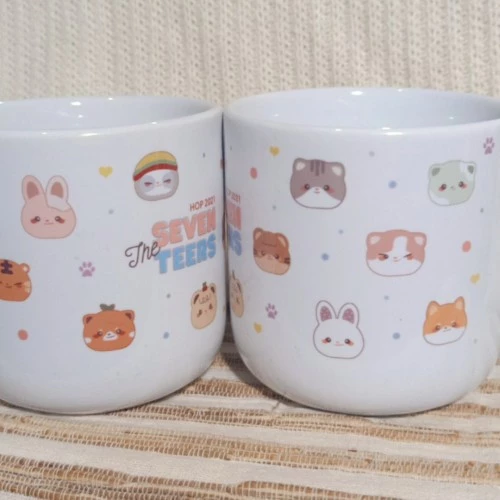gelas: (228, 86, 500, 416), (2, 98, 228, 412)
